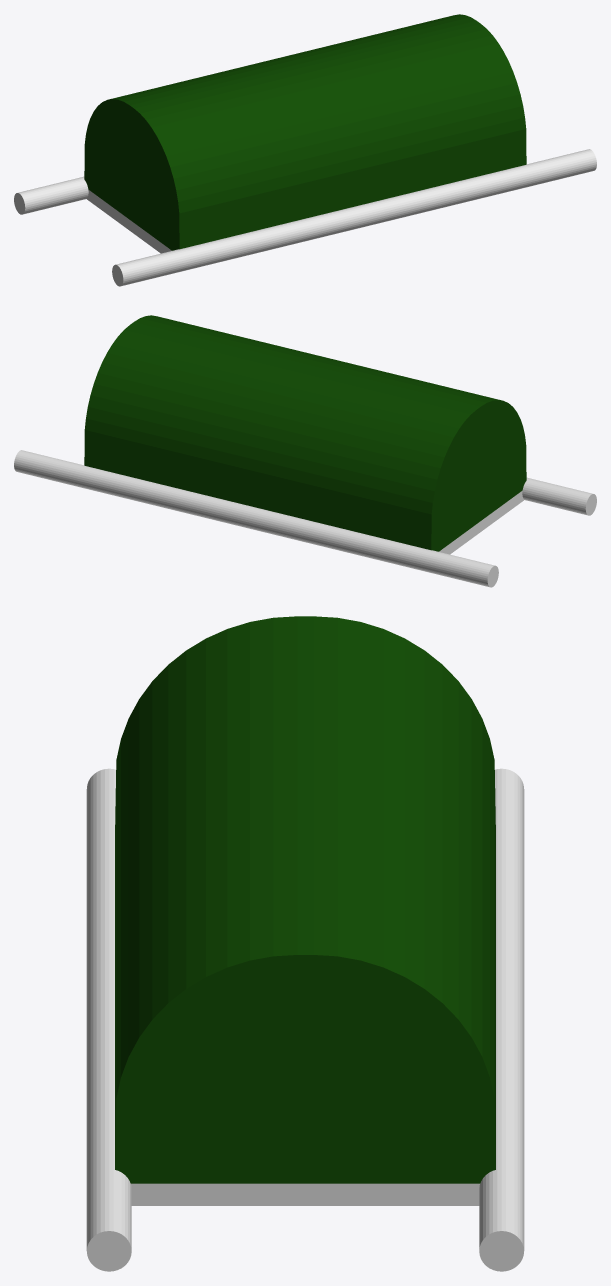
File: Keranda.fbx
3 renders of one model, top to bottom at view 1: azimuth 30°, elevation 25°; view 2: azimuth 150°, elevation 25°; view 3: azimuth 270°, elevation 25°, orthographic. The views are drawn at different scales.
Parts seen in each view (by area): view 1: Cube, Cylinder; view 2: Cube, Cylinder; view 3: Cube, Cylinder.
Part boxes in pixels (left/top/right/bottom): Cube: left=84, top=14, right=526, bottom=253; Cylinder: left=14, top=149, right=596, bottom=286; Cube: left=84, top=315, right=526, bottom=554; Cylinder: left=14, top=450, right=596, bottom=587; Cube: left=115, top=616, right=495, bottom=1205; Cylinder: left=86, top=768, right=524, bottom=1271.
Size of the model in its own units: 574 by 147 by 229.
